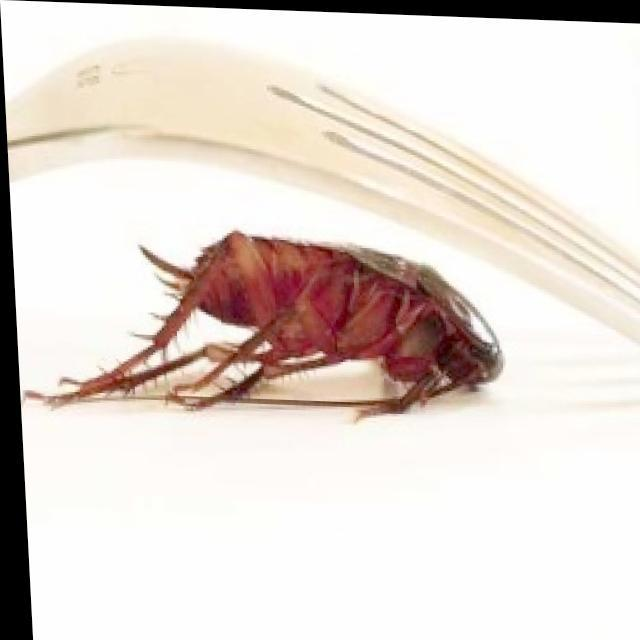cockroach: (24, 228, 508, 423)
